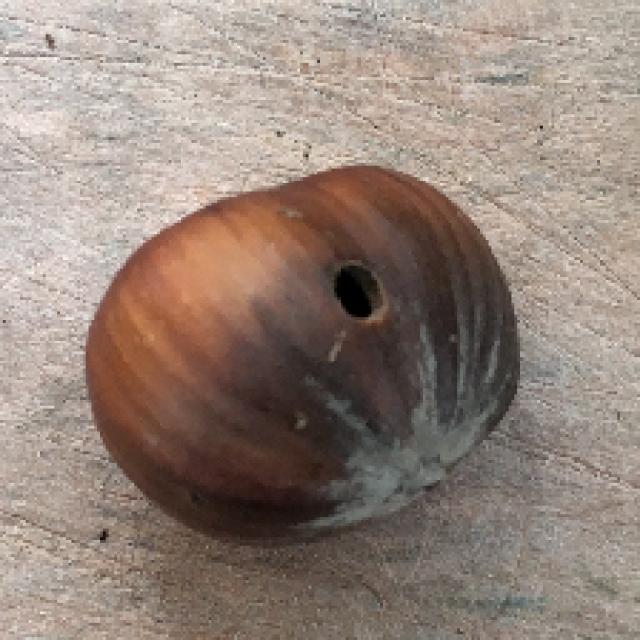damagedHazelnut: (88, 168, 531, 546)
